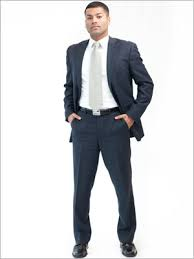F_M_suit jacket: (59, 33, 158, 124)
F_belt: (70, 100, 143, 123)
